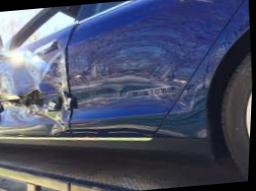Door: (0, 45, 77, 141)
